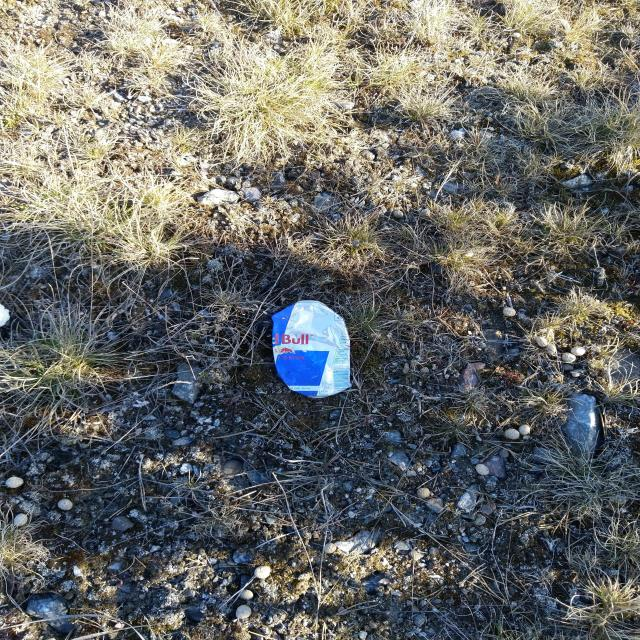litter: (271, 300, 352, 398)
